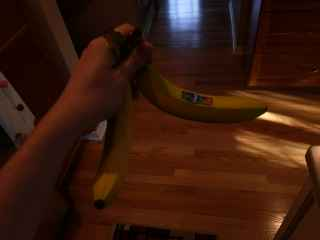banana: (107, 21, 270, 126)
